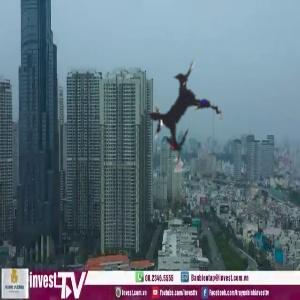drone: (100, 33, 266, 199)
